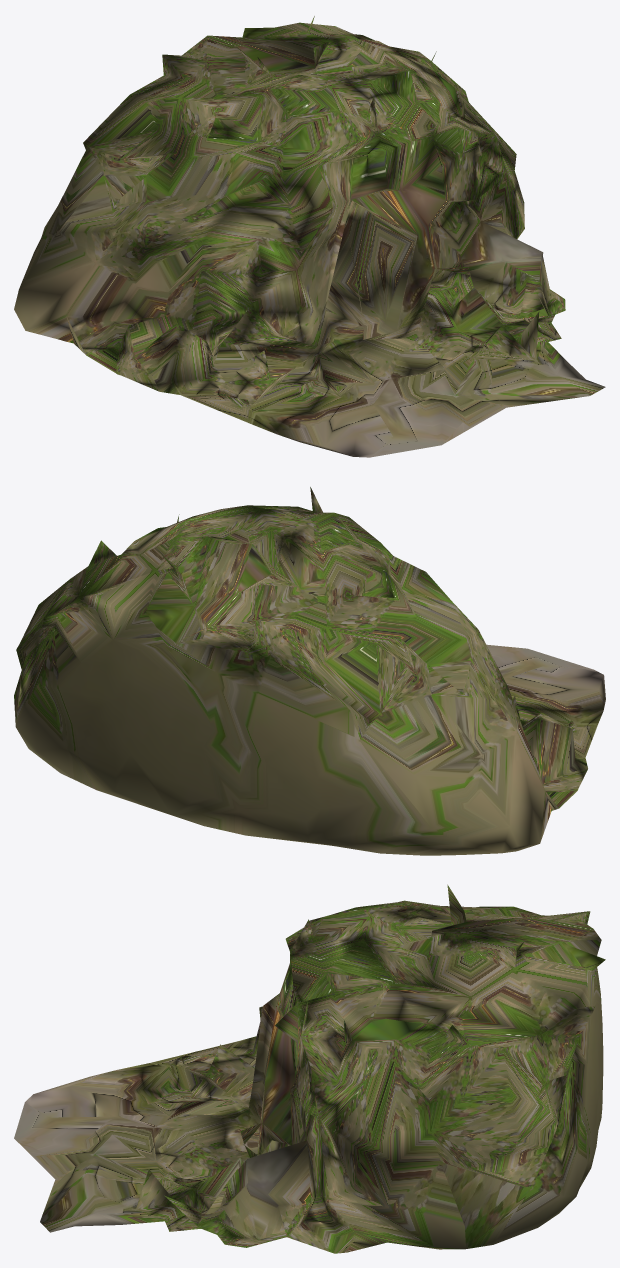
File: h_earth_far.glb
3 renders of one model, top to bottom at view 1: azimuth 30°, elevation 25°; view 2: azimuth 150°, elevation 25°; view 3: azimuth 270°, elevation 25°, orthographic. The views are drawn at different scales.
Parts seen in each view (by area): view 1: tripo_node_026c760a-4c80-41da-a8e9-b8cd3c012e25; view 2: tripo_node_026c760a-4c80-41da-a8e9-b8cd3c012e25; view 3: tripo_node_026c760a-4c80-41da-a8e9-b8cd3c012e25.
Part boxes in pixels (box(x1,y1,x2,y2)): tripo_node_026c760a-4c80-41da-a8e9-b8cd3c012e25: box(14, 16, 605, 457); tripo_node_026c760a-4c80-41da-a8e9-b8cd3c012e25: box(14, 487, 605, 855); tripo_node_026c760a-4c80-41da-a8e9-b8cd3c012e25: box(14, 884, 605, 1253).
Bounding box in the file's own units: 0.9825 × 0.4797 × 0.9831.
1 material, 1 textured.
